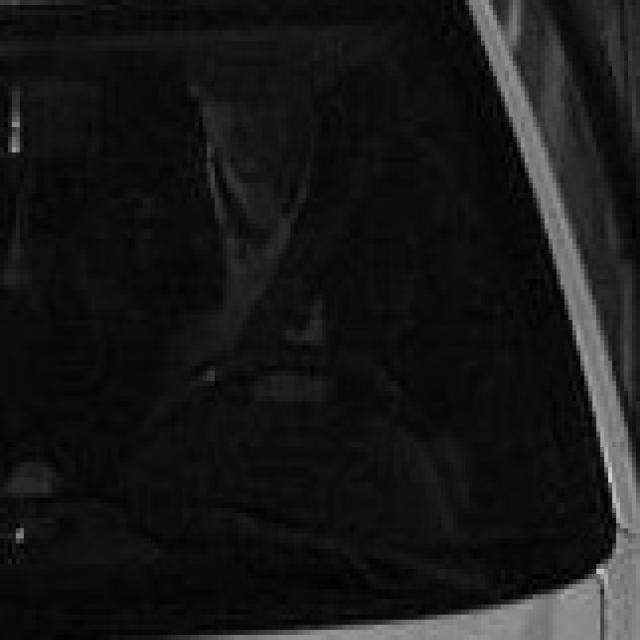Seatbelt: (254, 87, 394, 340)
